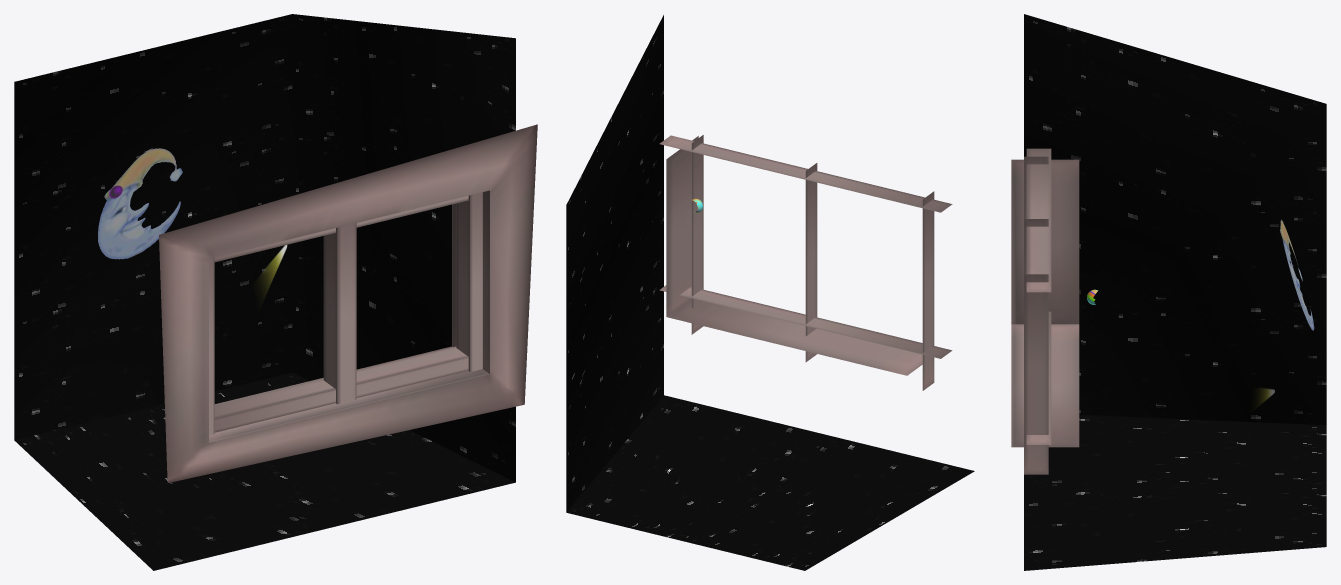
The model's file is spaceView.glb.
3 views of the same model, side by side, from view 1: azimuth 30°, elevation 25°; view 2: azimuth 150°, elevation 25°; view 3: azimuth 270°, elevation 25° (orthographic). The views are drawn at different scales.
Parts seen in each view (by area): view 1: SpaceStarsBg, WindowFrame, windowBar2, windowBar4, windowBar3, SpaceMoon, windowBar, windowBar1, SpaceComet; view 2: SpaceStarsBg, WindowFrame, windowBar, windowBar2, windowBar1, windowBar4, windowBar3; view 3: SpaceStarsBg, WindowFrame, windowBar3, windowBar, windowBar2, SpaceMoon.
Boxes of the visible parts, <box> form: SpaceStarsBg: <box>14,14,515,570</box>; WindowFrame: <box>159,124,537,482</box>; windowBar2: <box>163,346,468,432</box>; windowBar4: <box>323,223,356,404</box>; windowBar3: <box>456,192,482,371</box>; SpaceMoon: <box>98,148,182,259</box>; windowBar: <box>214,195,468,262</box>; windowBar1: <box>209,257,214,435</box>; SpaceComet: <box>254,245,287,307</box>; SpaceStarsBg: <box>566,15,974,570</box>; WindowFrame: <box>666,136,922,375</box>; windowBar: <box>659,135,952,212</box>; windowBar2: <box>659,285,952,358</box>; windowBar1: <box>922,191,934,390</box>; windowBar4: <box>805,163,817,362</box>; windowBar3: <box>691,135,703,334</box>; SpaceStarsBg: <box>1024,14,1326,570</box>; WindowFrame: <box>1011,159,1079,447</box>; windowBar3: <box>1024,274,1048,474</box>; windowBar: <box>1026,148,1051,292</box>; windowBar2: <box>1026,311,1051,444</box>; SpaceMoon: <box>1280,219,1314,330</box>.
Size of the model in its own units: 10.79 by 12.09 by 8.68.
5 materials, 5 textured.
